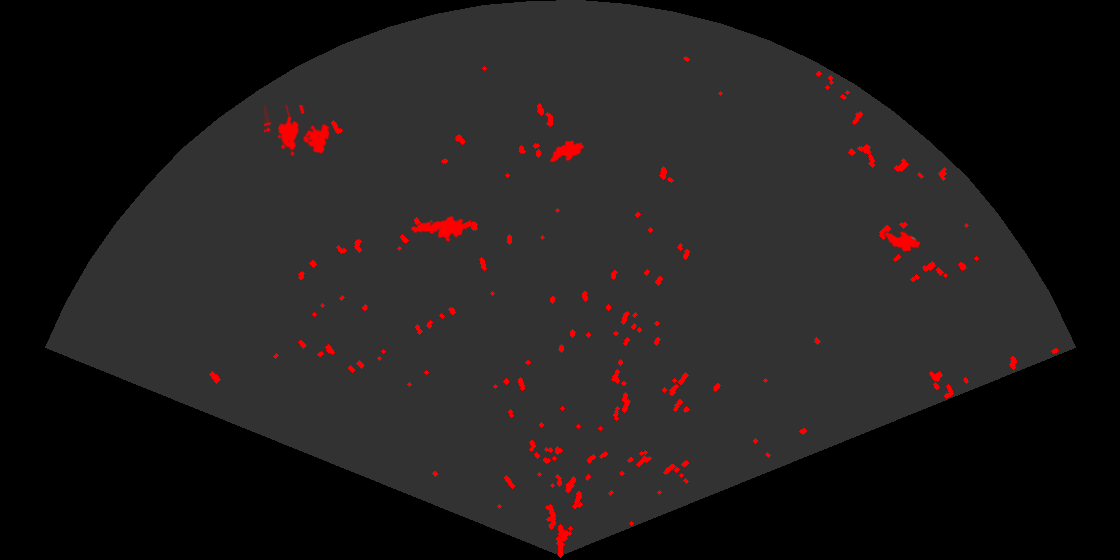AUV: (548, 139, 586, 164), (883, 230, 922, 253)
cage: (264, 105, 331, 158)
frogman: (409, 214, 471, 243)
